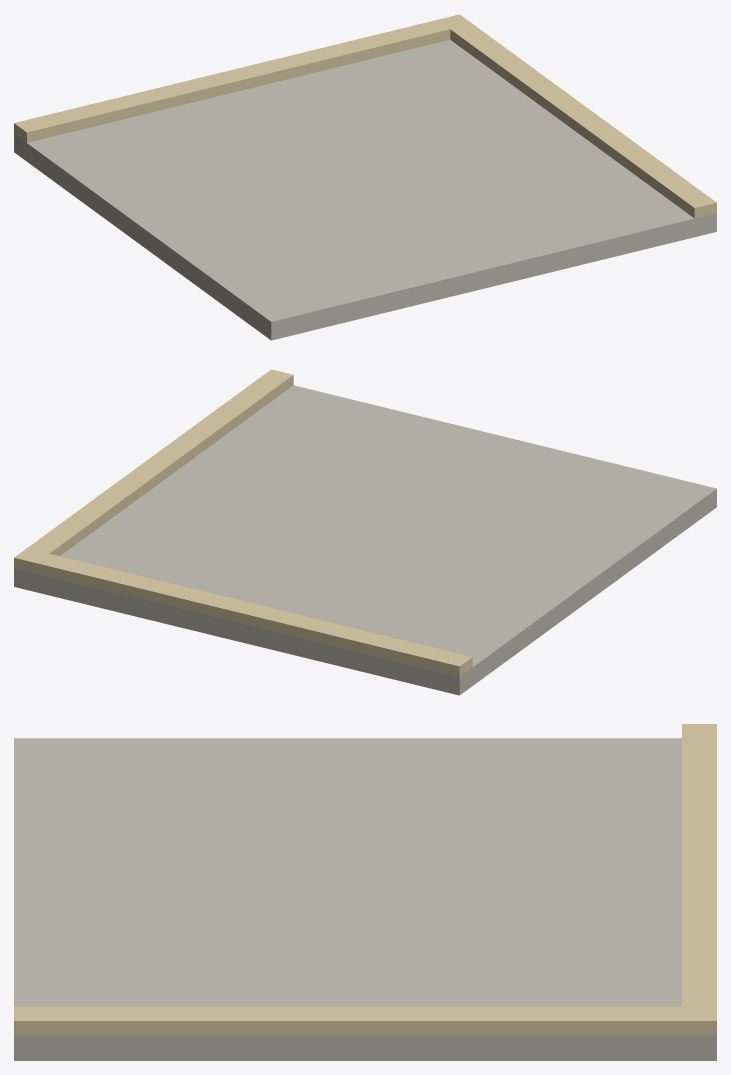
File: zoo-and-safari-park-builder-path-corner-5f38ad57__21484.glb
3 renders of one model, top to bottom at view 1: azimuth 30°, elevation 25°; view 2: azimuth 150°, elevation 25°; view 3: azimuth 270°, elevation 25°, orthographic. The views are drawn at different scales.
Visible parts, largest first — view 1: path-corner; view 2: path-corner; view 3: path-corner.
Part boxes in pixels (left/top/right/bottom): path-corner: left=14, top=14, right=716, bottom=340; path-corner: left=14, top=369, right=716, bottom=695; path-corner: left=14, top=724, right=716, bottom=1060.
Bounding box in the file's own units: 2 × 0.125 × 2.
